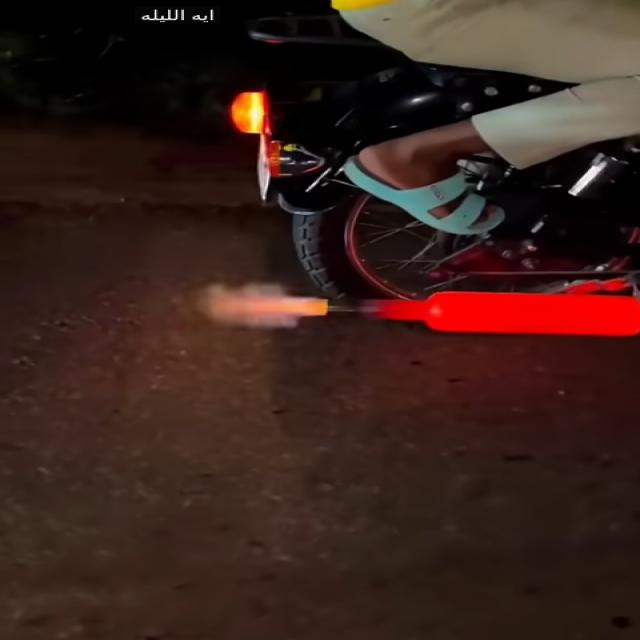fire: (225, 295, 328, 318)
